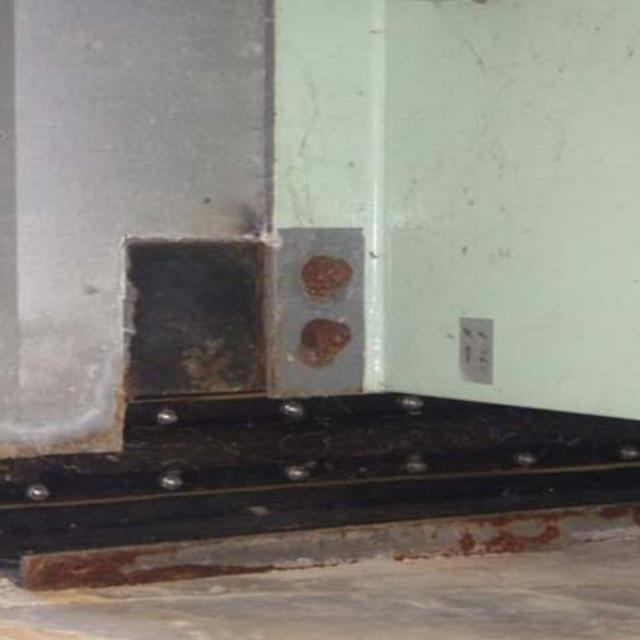corrosion: (10, 517, 630, 590), (267, 231, 364, 373)
